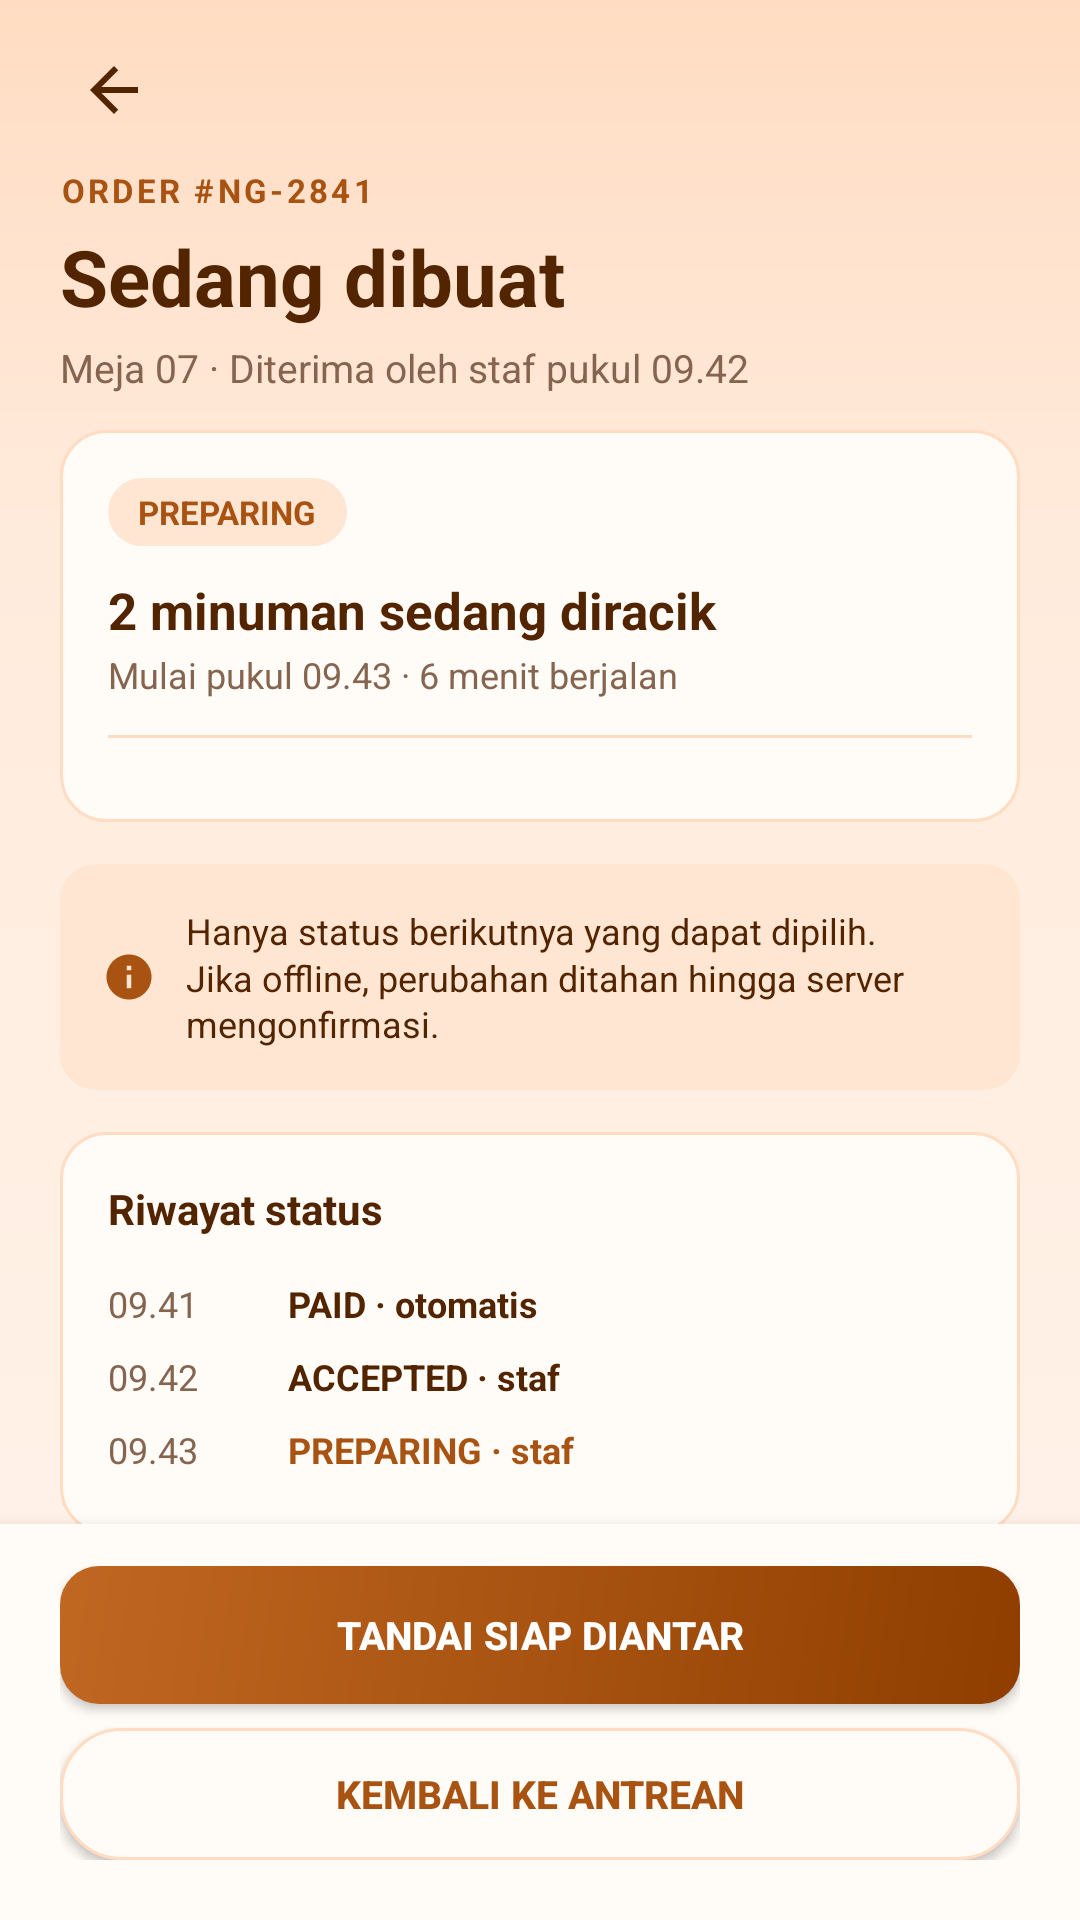

Named icons in this screenshot (1080px×1920px) and their centers, point (x, y):
info: point (129, 977)
Kembali: point (114, 90)
